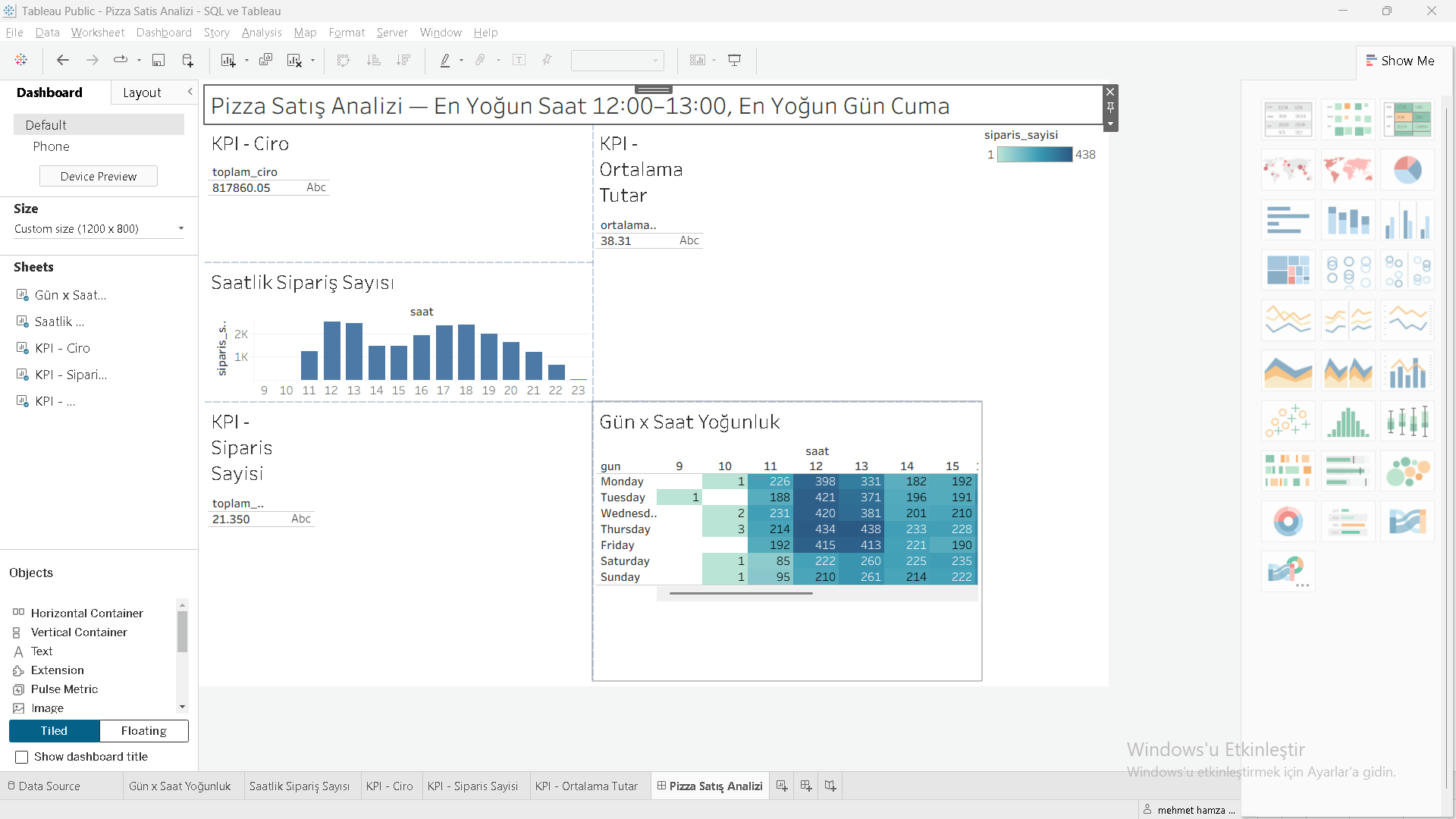

The page's visual inventory and layout, read from the dashboard file:
{"tool":"tableau","page":{"name":"Pizza Satış Analizi","canvas":[1200,800],"ordinal":0},"visuals":[{"type":"title","box":[8,8,1184,50]},{"type":"worksheet","title":"KPI - Ciro","mark":"Automatic","rows":["toplam_ciro"],"box":[8,58,512,183.5]},{"type":"worksheet","title":"KPI - Ortalama Tutar","mark":"Automatic","rows":["ortalama_siparis_tutari"],"box":[520,58,512,367]},{"type":"legend","title":"Gün x Saat Yoğunluk","param":"[federated.0uo9b9c0atj68r1bh1leq12knms3].[sum:siparis_sayisi:qk]","box":[1032,58,160,73]},{"type":"worksheet","title":"Saatlik Sipariş Sayısı","mark":"Automatic","rows":["siparis_sayisi"],"cols":["saat"],"box":[8,241.5,512,183.5]},{"type":"worksheet","title":"KPI - Siparis Sayisi","mark":"Text","rows":["toplam_siparis_sayisi"],"box":[8,425,512,367]},{"type":"worksheet","title":"Gün x Saat Yoğunluk","mark":"Square","rows":["gun"],"cols":["saat"],"box":[520,425,512,367]}]}

Visuals, with their boxes on the page's 1200x800 design canvas (x1, y1, x2, y2). These are canvas units, not pixel positions in the 1456x819 screenshot, which may show the page scaled, cropped or inside an application window:
title: Rect(8, 8, 1192, 58)
"KPI - Ciro" worksheet: Rect(8, 58, 520, 242)
"KPI - Ortalama Tutar" worksheet: Rect(520, 58, 1032, 425)
"Gün x Saat Yoğunluk" legend: Rect(1032, 58, 1192, 131)
"Saatlik Sipariş Sayısı" worksheet: Rect(8, 242, 520, 425)
"KPI - Siparis Sayisi" worksheet (Text marks): Rect(8, 425, 520, 792)
"Gün x Saat Yoğunluk" worksheet (Square marks): Rect(520, 425, 1032, 792)
